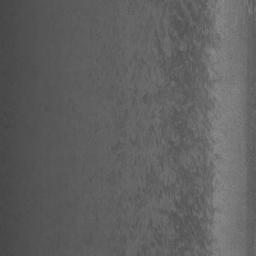Silk spot: (96, 0, 227, 256)
